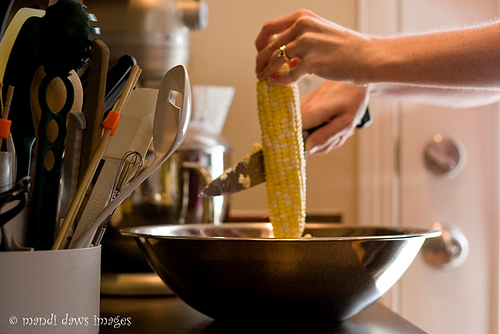corn: (253, 72, 309, 239)
